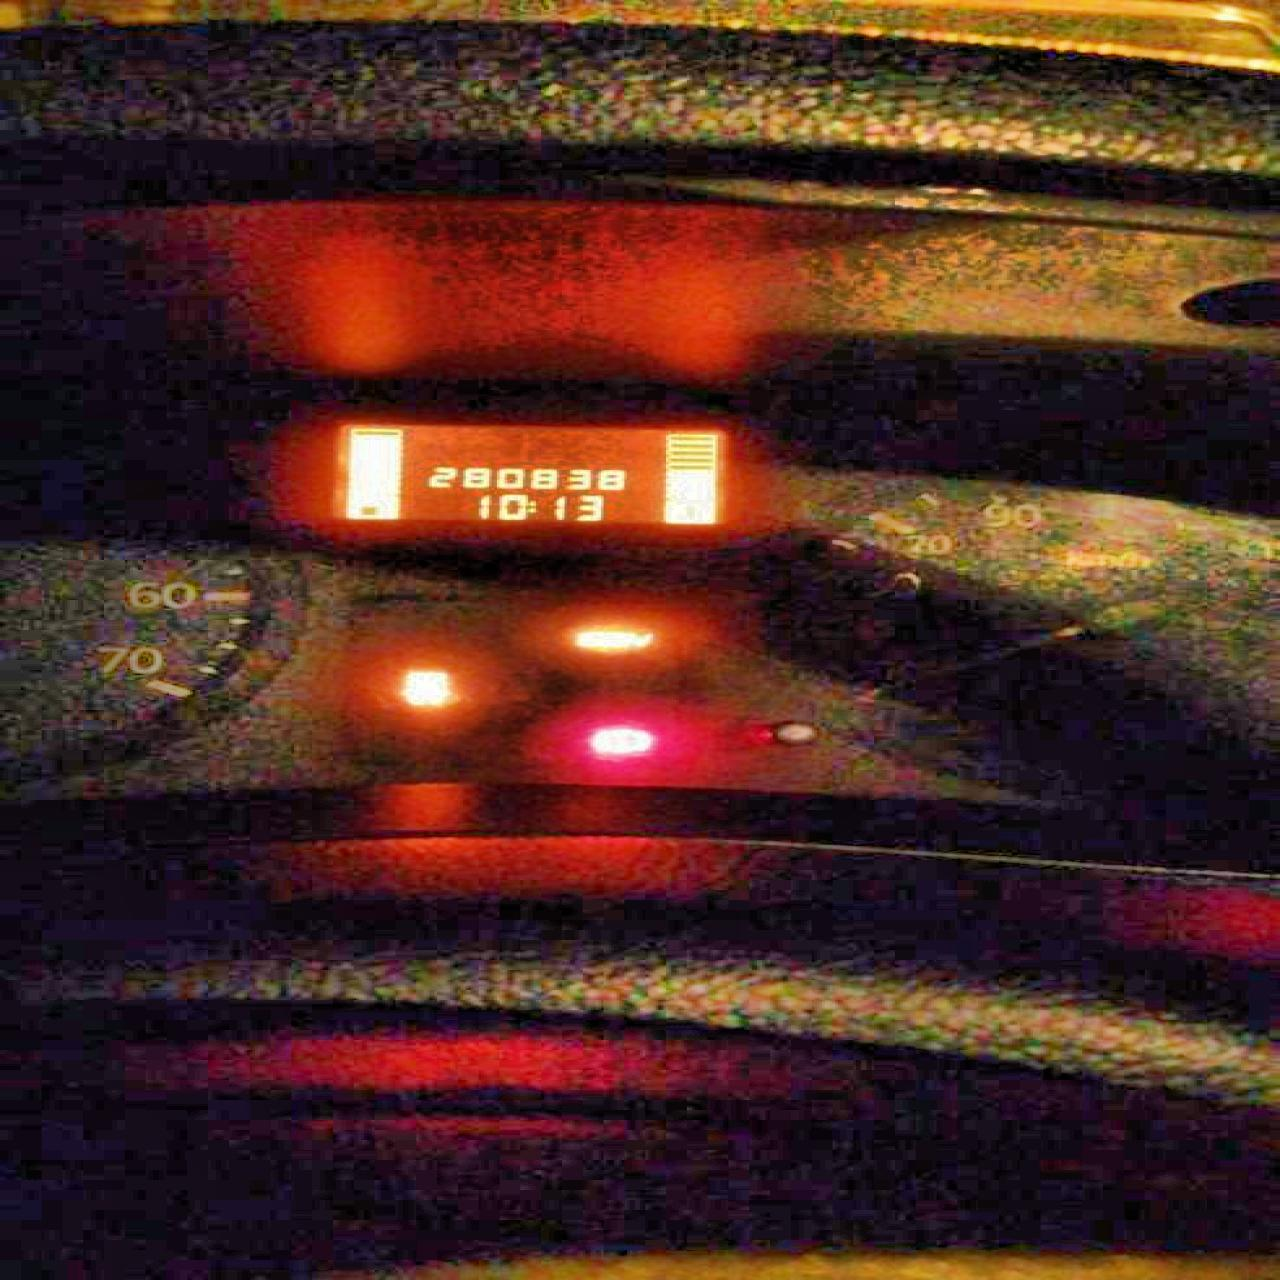0: (495, 491, 525, 520), (492, 467, 523, 489)
1: (546, 493, 570, 520), (471, 491, 489, 520)
2: (424, 463, 455, 489)
3: (570, 492, 601, 522), (563, 467, 591, 490)
8: (525, 467, 557, 490), (593, 468, 625, 490), (458, 467, 489, 489)
X: (525, 497, 536, 513)
odometer: (318, 418, 736, 530)
